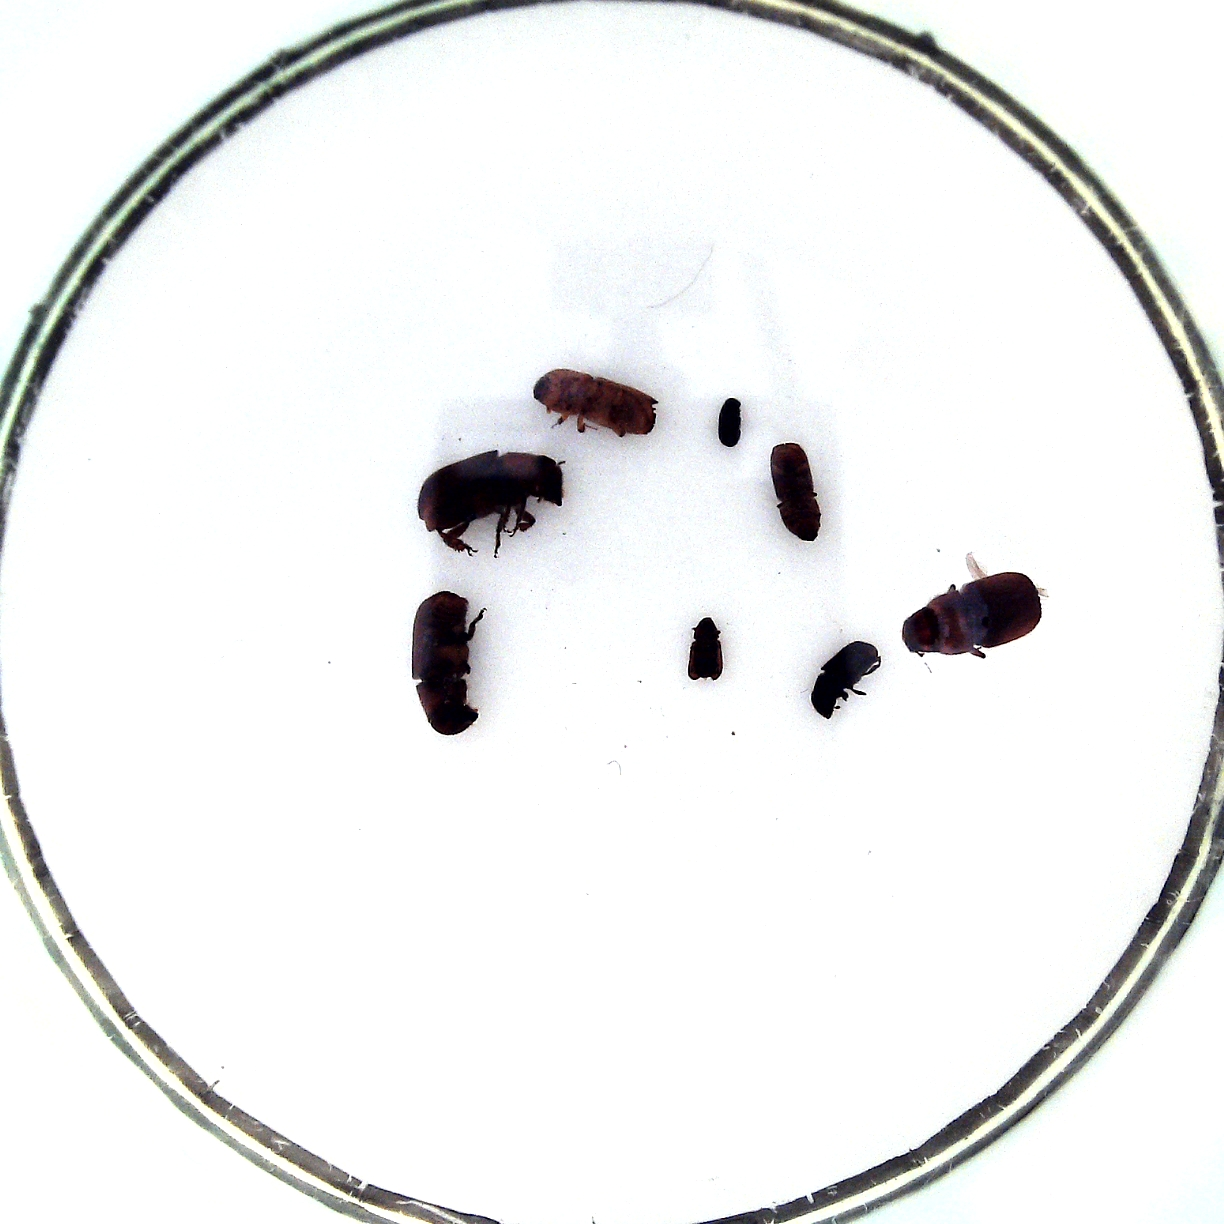Boerner: (532, 368, 656, 436)
Leconte: (418, 449, 562, 534), (902, 572, 1042, 656), (411, 590, 480, 735)
acuminatus: (718, 397, 742, 446)
armandi: (812, 640, 878, 718)
coleoptera: (688, 618, 723, 680)
linnaeus: (770, 443, 820, 540)
